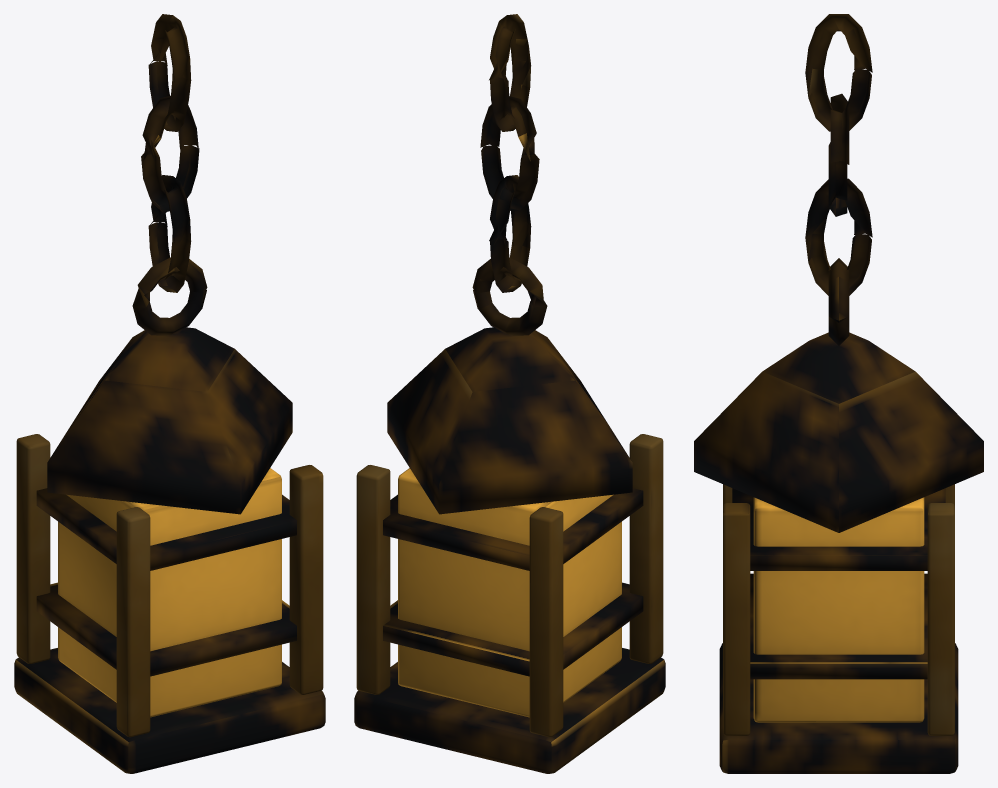
Rendered from spire_lantern.obj.
3 renders of one model, left to right at view 1: azimuth 30°, elevation 25°; view 2: azimuth 150°, elevation 25°; view 3: azimuth 270°, elevation 25°, orthographic. The views are drawn at different scales.
Visible parts, largest first — view 1: part0, fire, part2; view 2: part0, fire, part2; view 3: part0, fire, part2.
Boxes of the visible parts, x1,y1,x2,y2 form: part0: (14, 14, 325, 773); fire: (58, 468, 281, 717); part2: (16, 434, 323, 737); part0: (354, 14, 665, 773); fire: (398, 468, 621, 717); part2: (356, 434, 663, 737); part0: (694, 14, 983, 773); fire: (753, 497, 924, 722); part2: (723, 484, 954, 735).
Bounding box in the file's own units: 0.34 × 0.9211 × 0.34.
